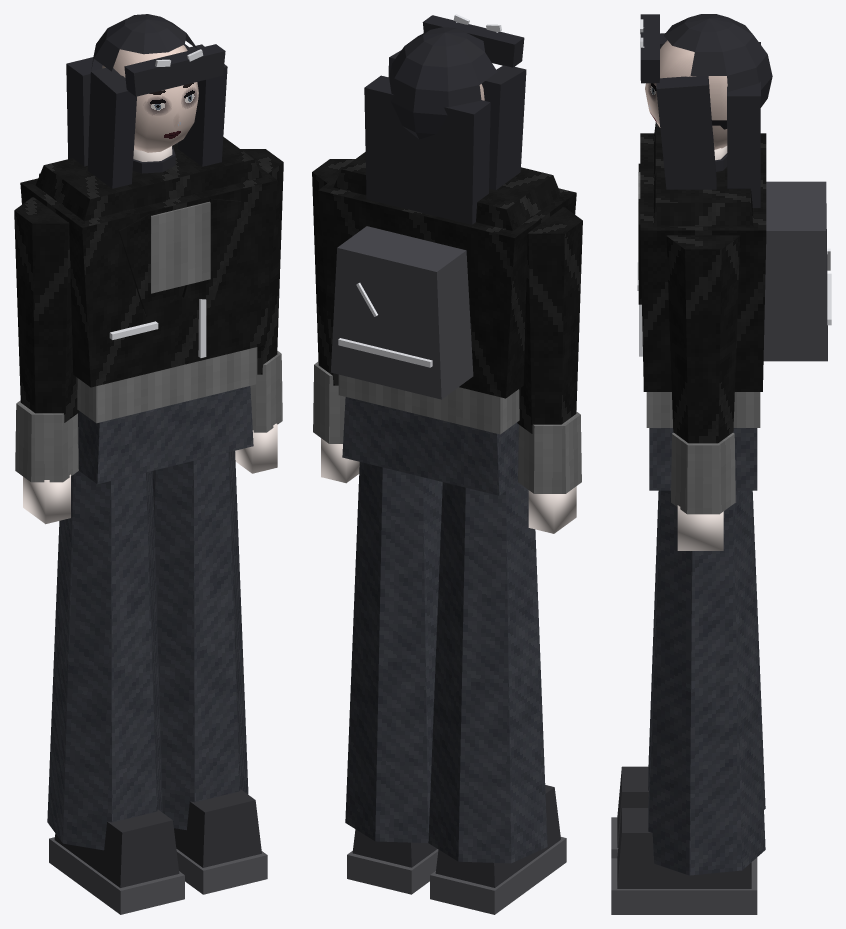
Rendered from alt_girl.glb.
3 renders of one model, left to right at view 1: azimuth 30°, elevation 25°; view 2: azimuth 150°, elevation 25°; view 3: azimuth 270°, elevation 25°, orthographic. The views are drawn at different scales.
Visible parts, largest first — view 1: Body, LegL, LegR, ArmL, ArmR; view 2: Body, LegL, LegR, ArmL, ArmR; view 3: Body, LegR, ArmR, LegL.
Part boxes in pixels (x1,y1,x2,y2): Body: (20,14,277,484); LegL: (47,445,184,914); LegR: (152,451,267,894); ArmL: (14,197,79,524); ArmR: (235,149,283,473); Body: (318,14,576,495); LegL: (428,482,566,914); LegR: (345,462,442,894); ArmL: (517,207,582,533); ArmR: (312,159,359,483); Body: (637,14,831,490); LegR: (611,490,765,914); ArmR: (666,235,739,550); LegL: (611,490,765,858).
Size of the model in its own units: 0.5479 by 1.75 by 0.407.
10 materials, 4 textured.
